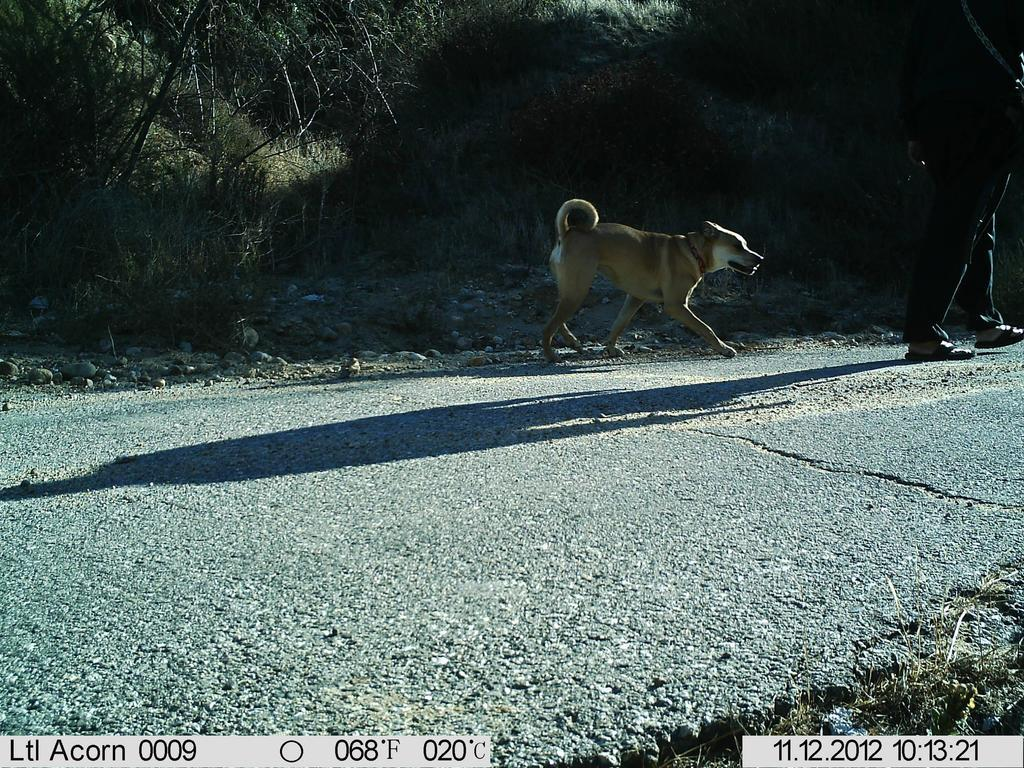dog: (535, 195, 763, 369)
